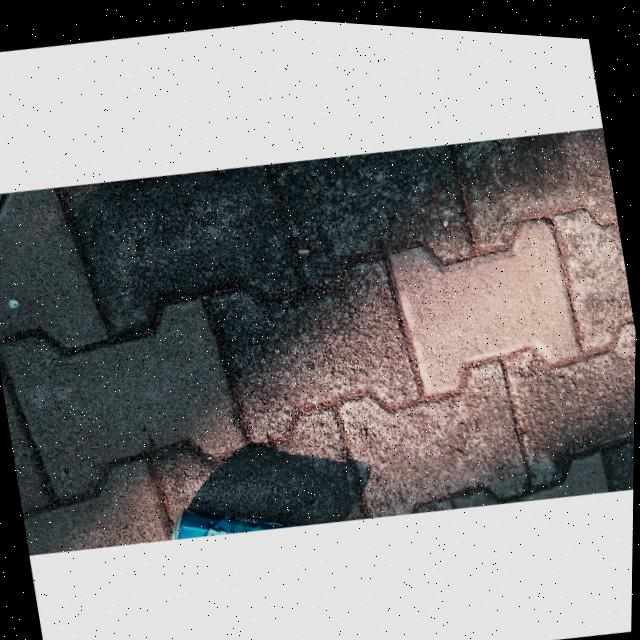Thums Up: (157, 485, 308, 546)
